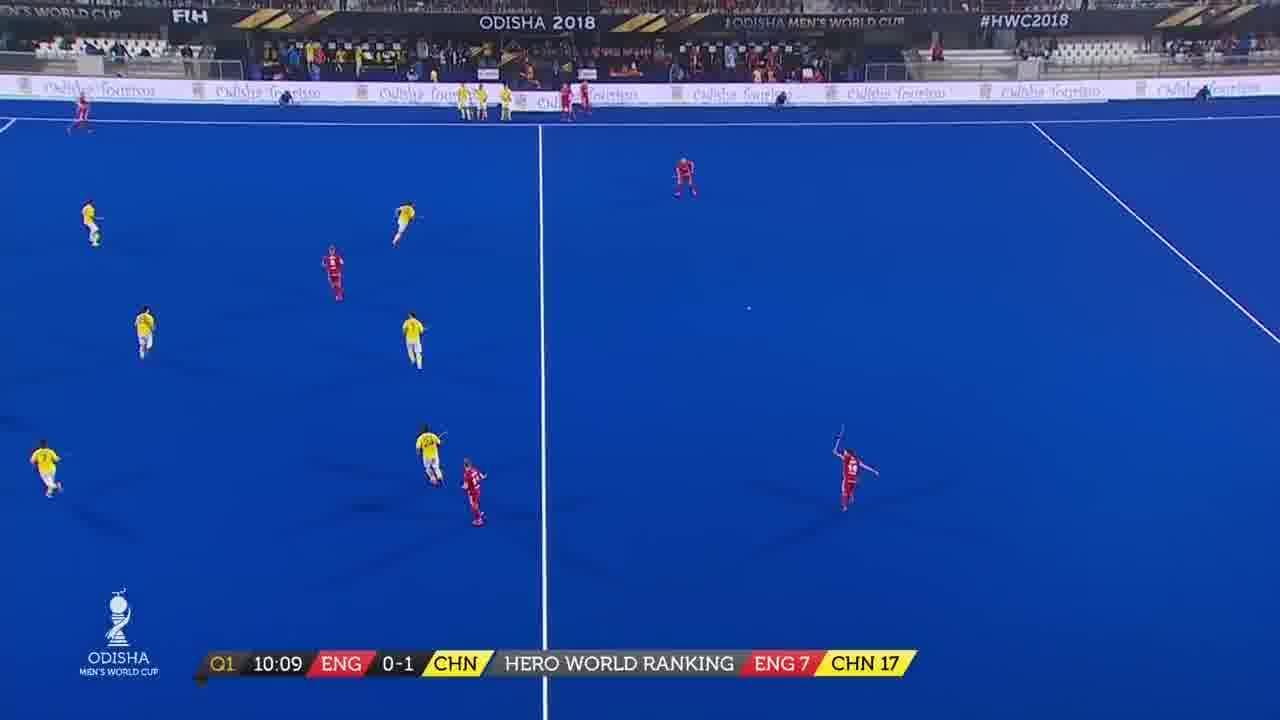ball: (745, 304, 754, 317)
